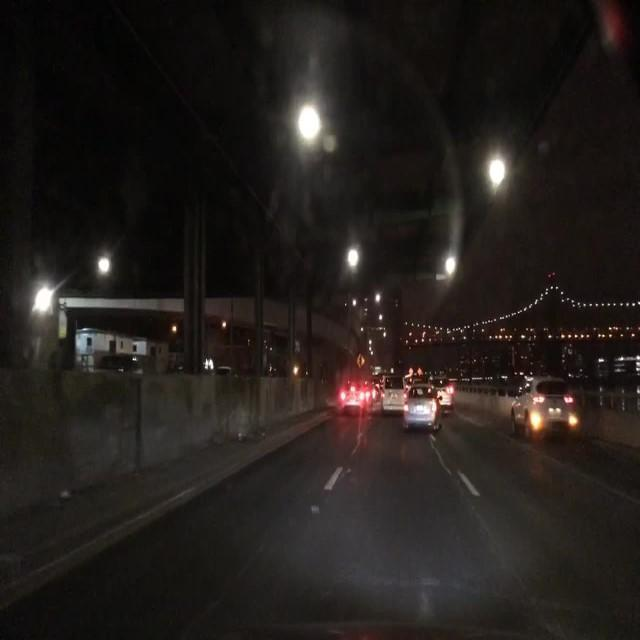normal: (511, 378, 585, 444), (403, 384, 443, 432), (436, 387, 454, 409)
